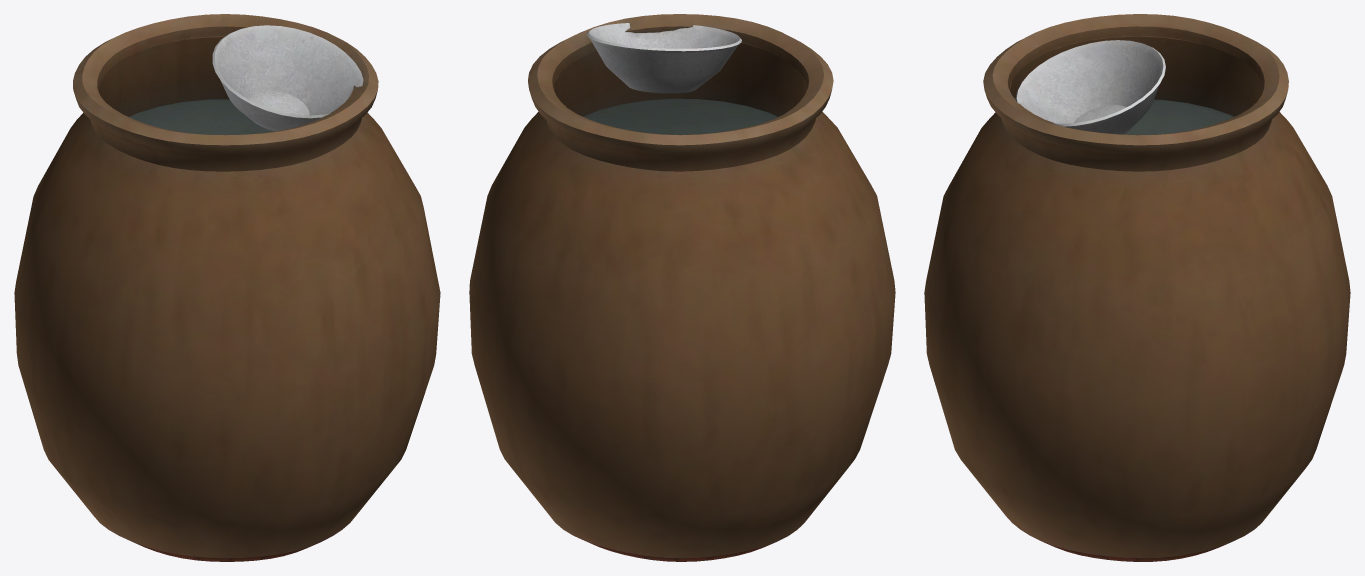
Rendered from ong_jar.glb.
3 renders of one model, left to right at view 1: azimuth 30°, elevation 25°; view 2: azimuth 150°, elevation 25°; view 3: azimuth 270°, elevation 25°, orthographic.
Visible parts, largest first — view 1: ong_jar; view 2: ong_jar; view 3: ong_jar.
Boxes of the visible parts, bbox=[...] form: ong_jar: bbox=[14, 14, 440, 561]; ong_jar: bbox=[469, 14, 895, 561]; ong_jar: bbox=[924, 14, 1350, 561].
Size of the model in its own units: 0.63 by 0.7649 by 0.63.
1 material, 1 textured.
